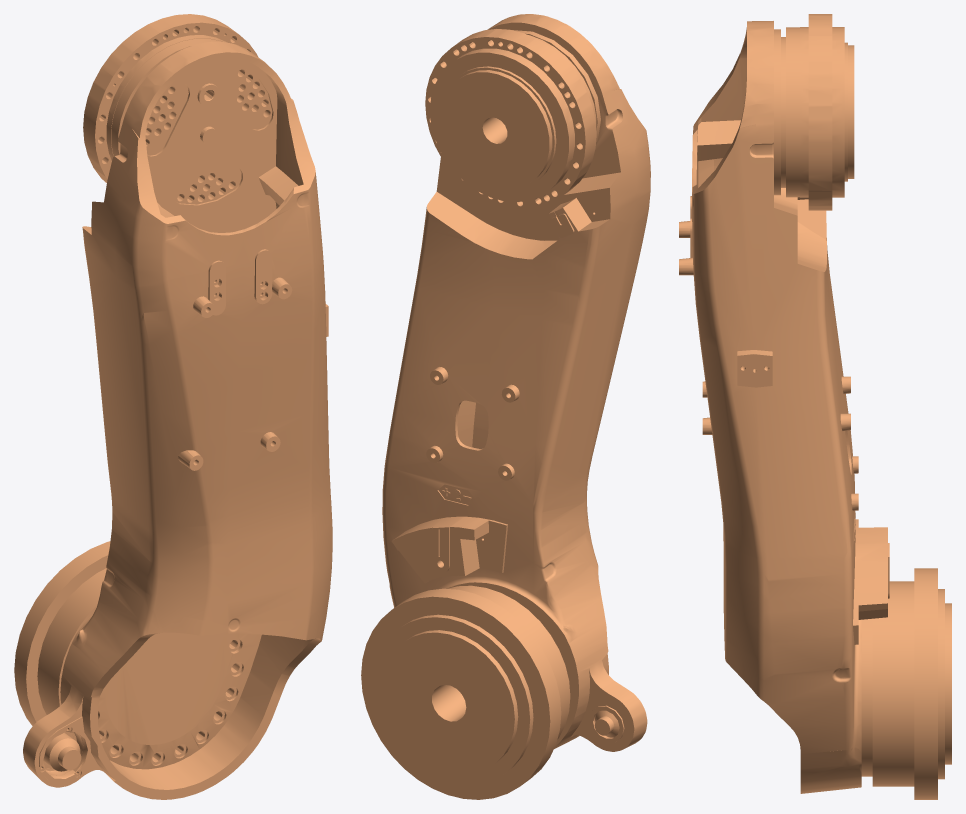
3 views of the same model, side by side, from view 1: azimuth 30°, elevation 25°; view 2: azimuth 150°, elevation 25°; view 3: azimuth 270°, elevation 25° (orthographic). The views are drawn at different scales.
Visible parts, largest first — view 1: link_2; view 2: link_2; view 3: link_2.
Boxes of the visible parts, bbox=[...] form: link_2: bbox=[14, 14, 332, 799]; link_2: bbox=[361, 14, 650, 799]; link_2: bbox=[679, 14, 951, 799].
Bounding box in the file's own units: 0.5283 × 0.465 × 1.44.
